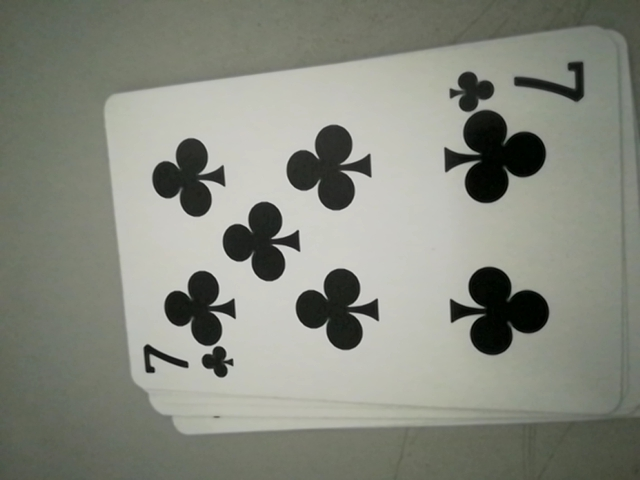mh 7: (446, 52, 594, 115), (137, 338, 239, 390)
